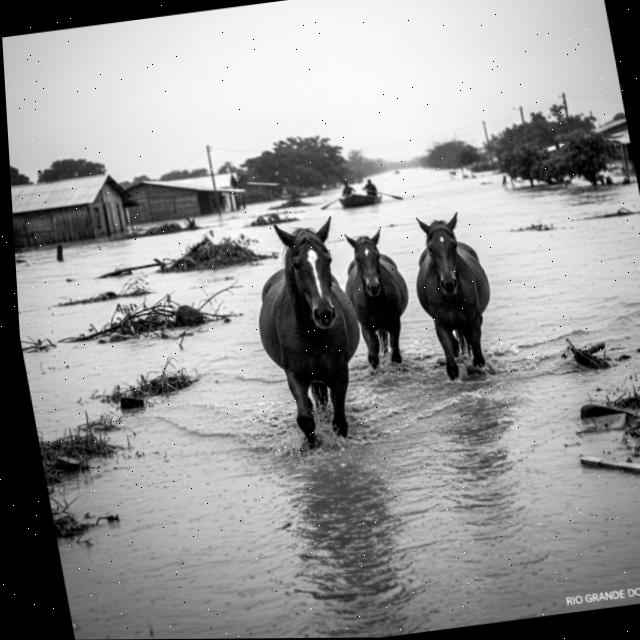civilian: (362, 175, 380, 198), (338, 179, 356, 199)
horse: (238, 213, 382, 448), (401, 201, 510, 386), (331, 215, 425, 375)
